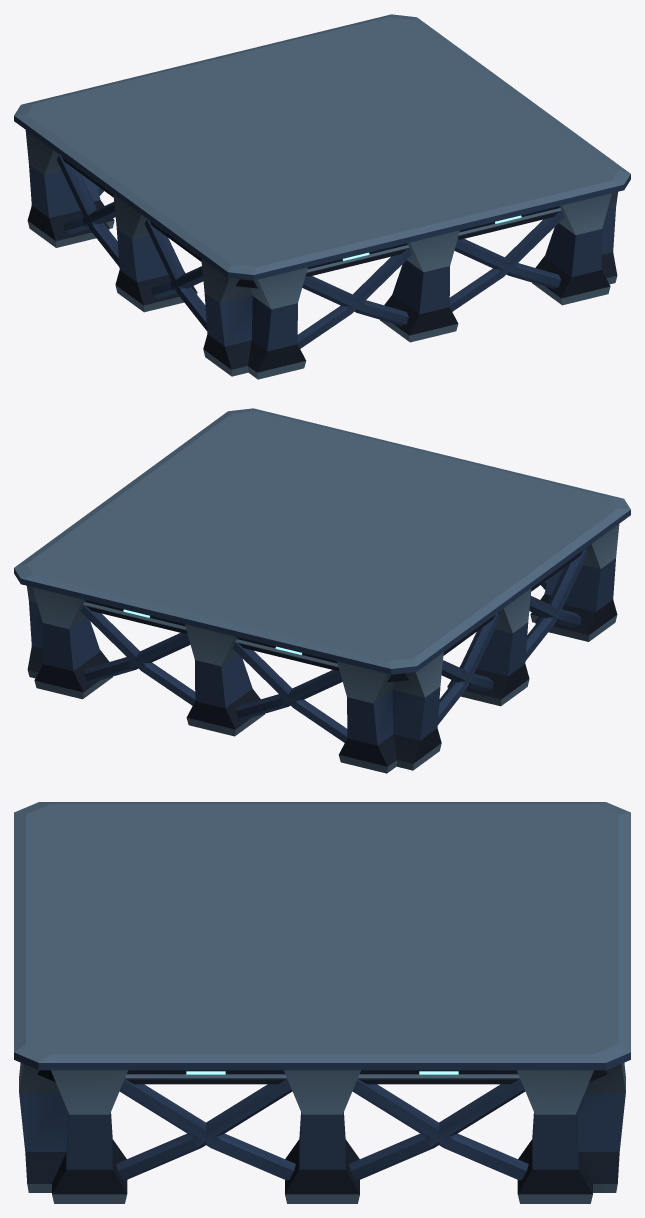
The model's file is biome-deck-truss.glb.
3 renders of one model, top to bottom at view 1: azimuth 30°, elevation 25°; view 2: azimuth 150°, elevation 25°; view 3: azimuth 270°, elevation 25°, orthographic. The views are drawn at different scales.
Visible parts, largest first — view 1: biome-deck-truss; view 2: biome-deck-truss; view 3: biome-deck-truss.
Boxes of the visible parts, x1,y1,x2,y2 form: biome-deck-truss: (14, 14, 630, 379); biome-deck-truss: (14, 408, 630, 773); biome-deck-truss: (14, 802, 630, 1203).
Size of the model in its own units: 19.18 by 5.17 by 19.18.
